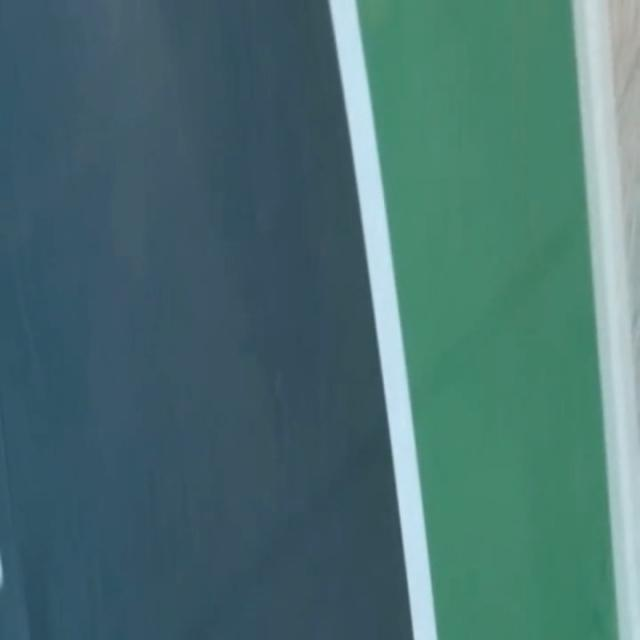right: (328, 0, 436, 639)
